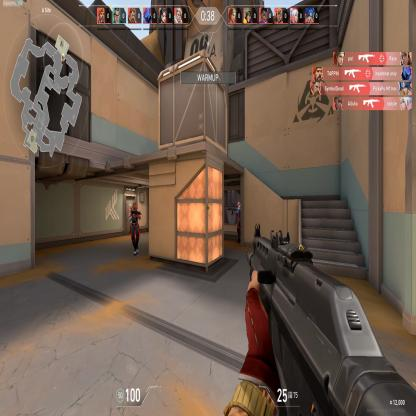enemy: (127, 200, 142, 256), (231, 201, 241, 244)
